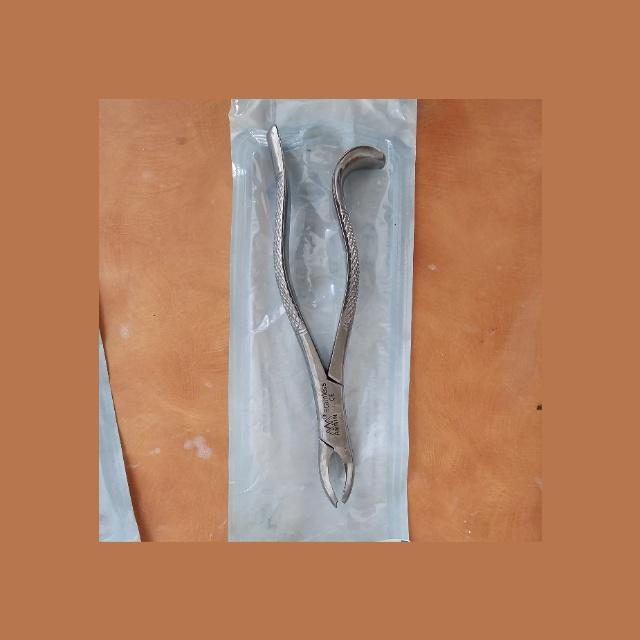forceps: (267, 126, 385, 505)
